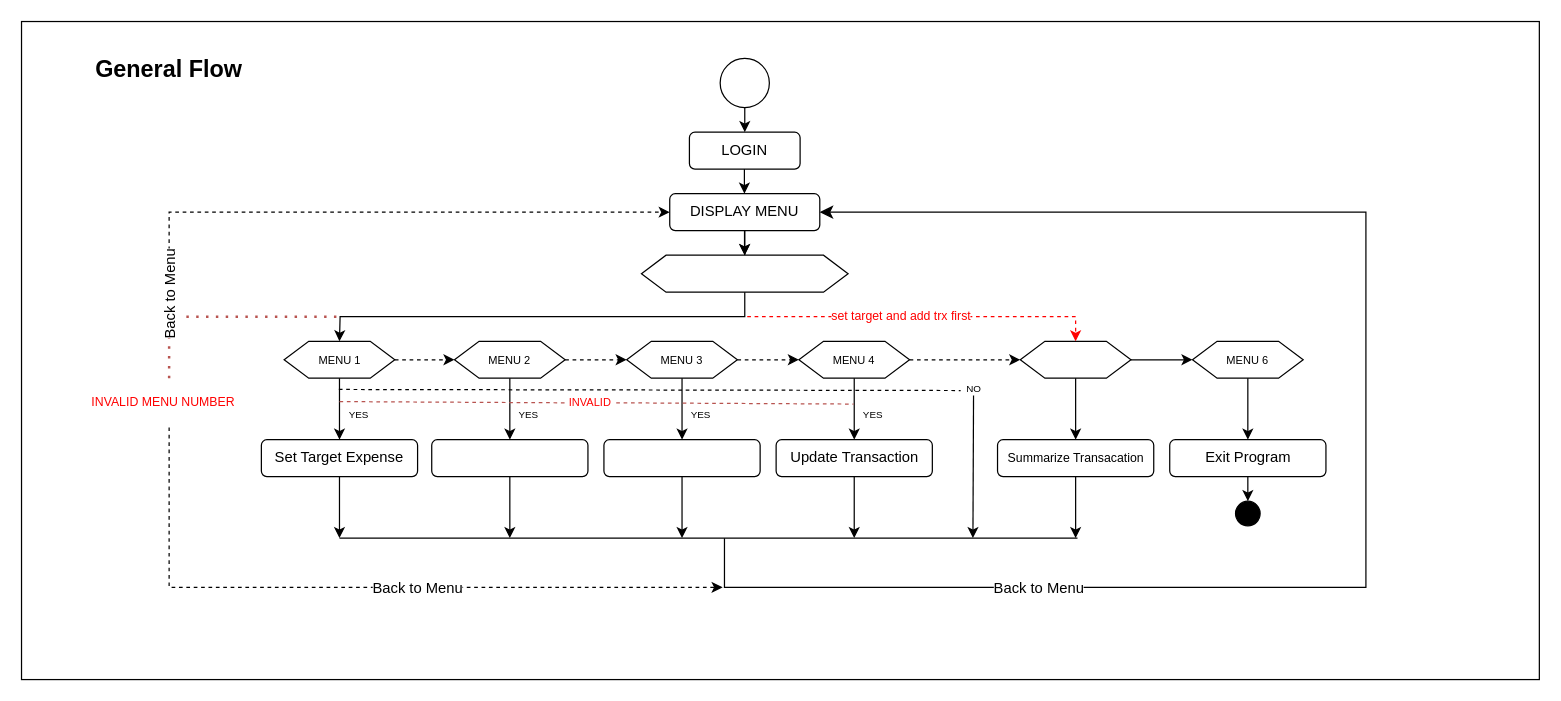
The diagram is 1561 pixels wide and 701 high, and some of its shapes have lost their labels. Each missing label, with the centre of its shape:
Add Transaction: the point at 509,457
MENU 5: the point at 1075,359
Remove Transaction: the point at 681,457
USER: the point at 744,82
USER MAKES CHOICES: the point at 744,273
